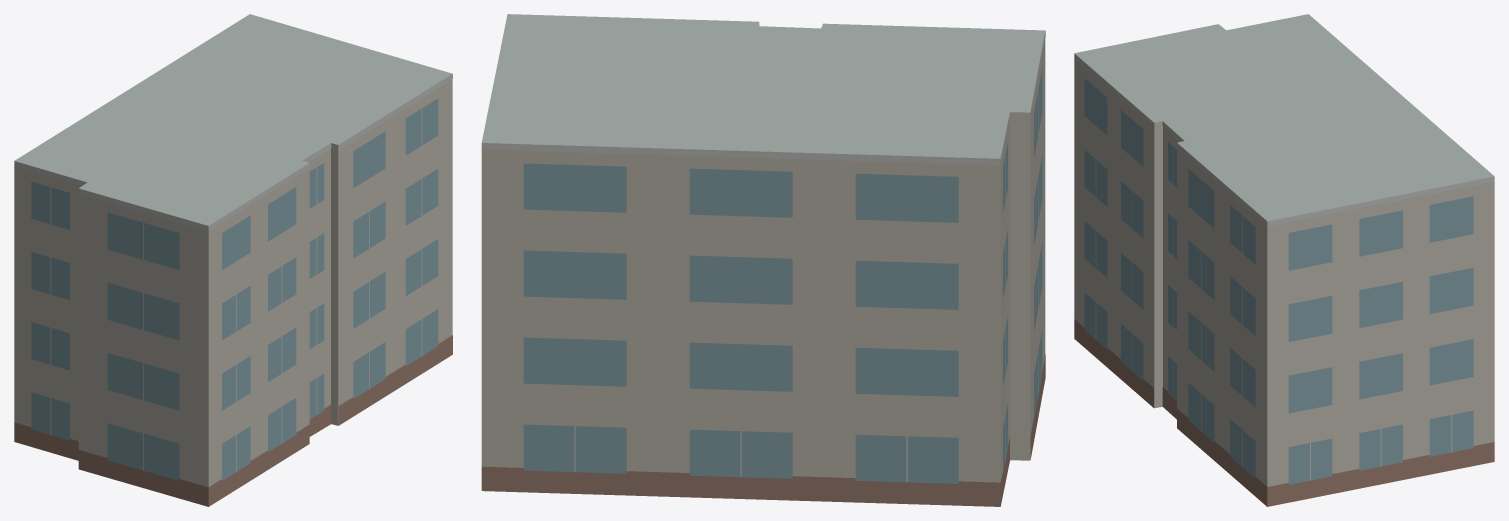
File: survey-upis-32965221.glb
The picture shows the model from 3 angles, left to right: view 1: azimuth 30°, elevation 25°; view 2: azimuth 150°, elevation 25°; view 3: azimuth 270°, elevation 25°; orthographic projection. The views are drawn at different scales.
Parts seen in each view (by area): view 1: survey-upis-32965221.tmp; view 2: survey-upis-32965221.tmp; view 3: survey-upis-32965221.tmp.
Part boxes in pixels (left/top/right/bottom): survey-upis-32965221.tmp: left=14, top=14, right=452, bottom=506; survey-upis-32965221.tmp: left=481, top=14, right=1045, bottom=506; survey-upis-32965221.tmp: left=1074, top=14, right=1494, bottom=506.
Size of the model in its own units: 20.12 by 12.91 by 17.24.
